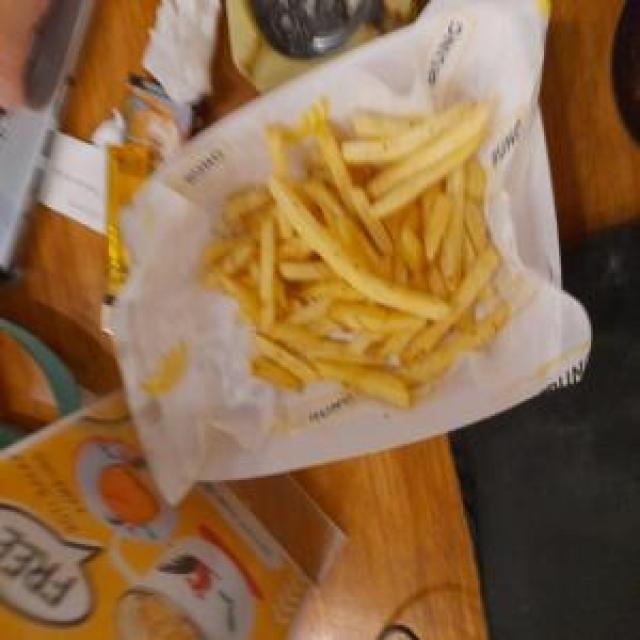French Fries: (224, 106, 536, 408)
